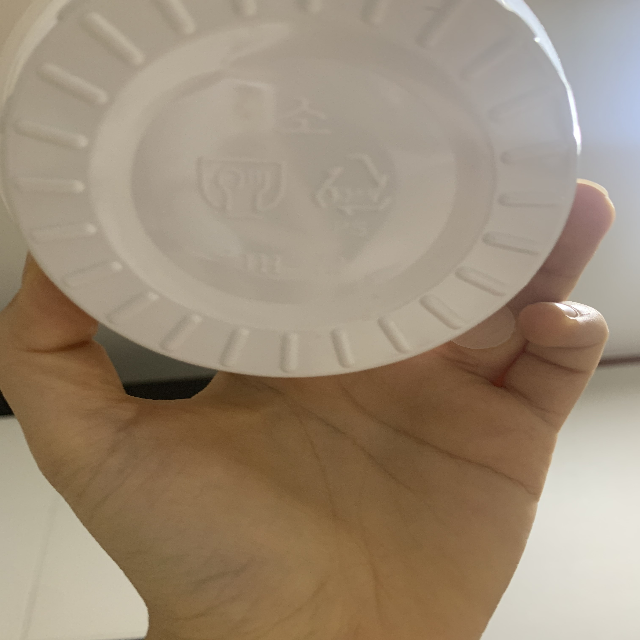ps: (312, 149, 392, 244)
